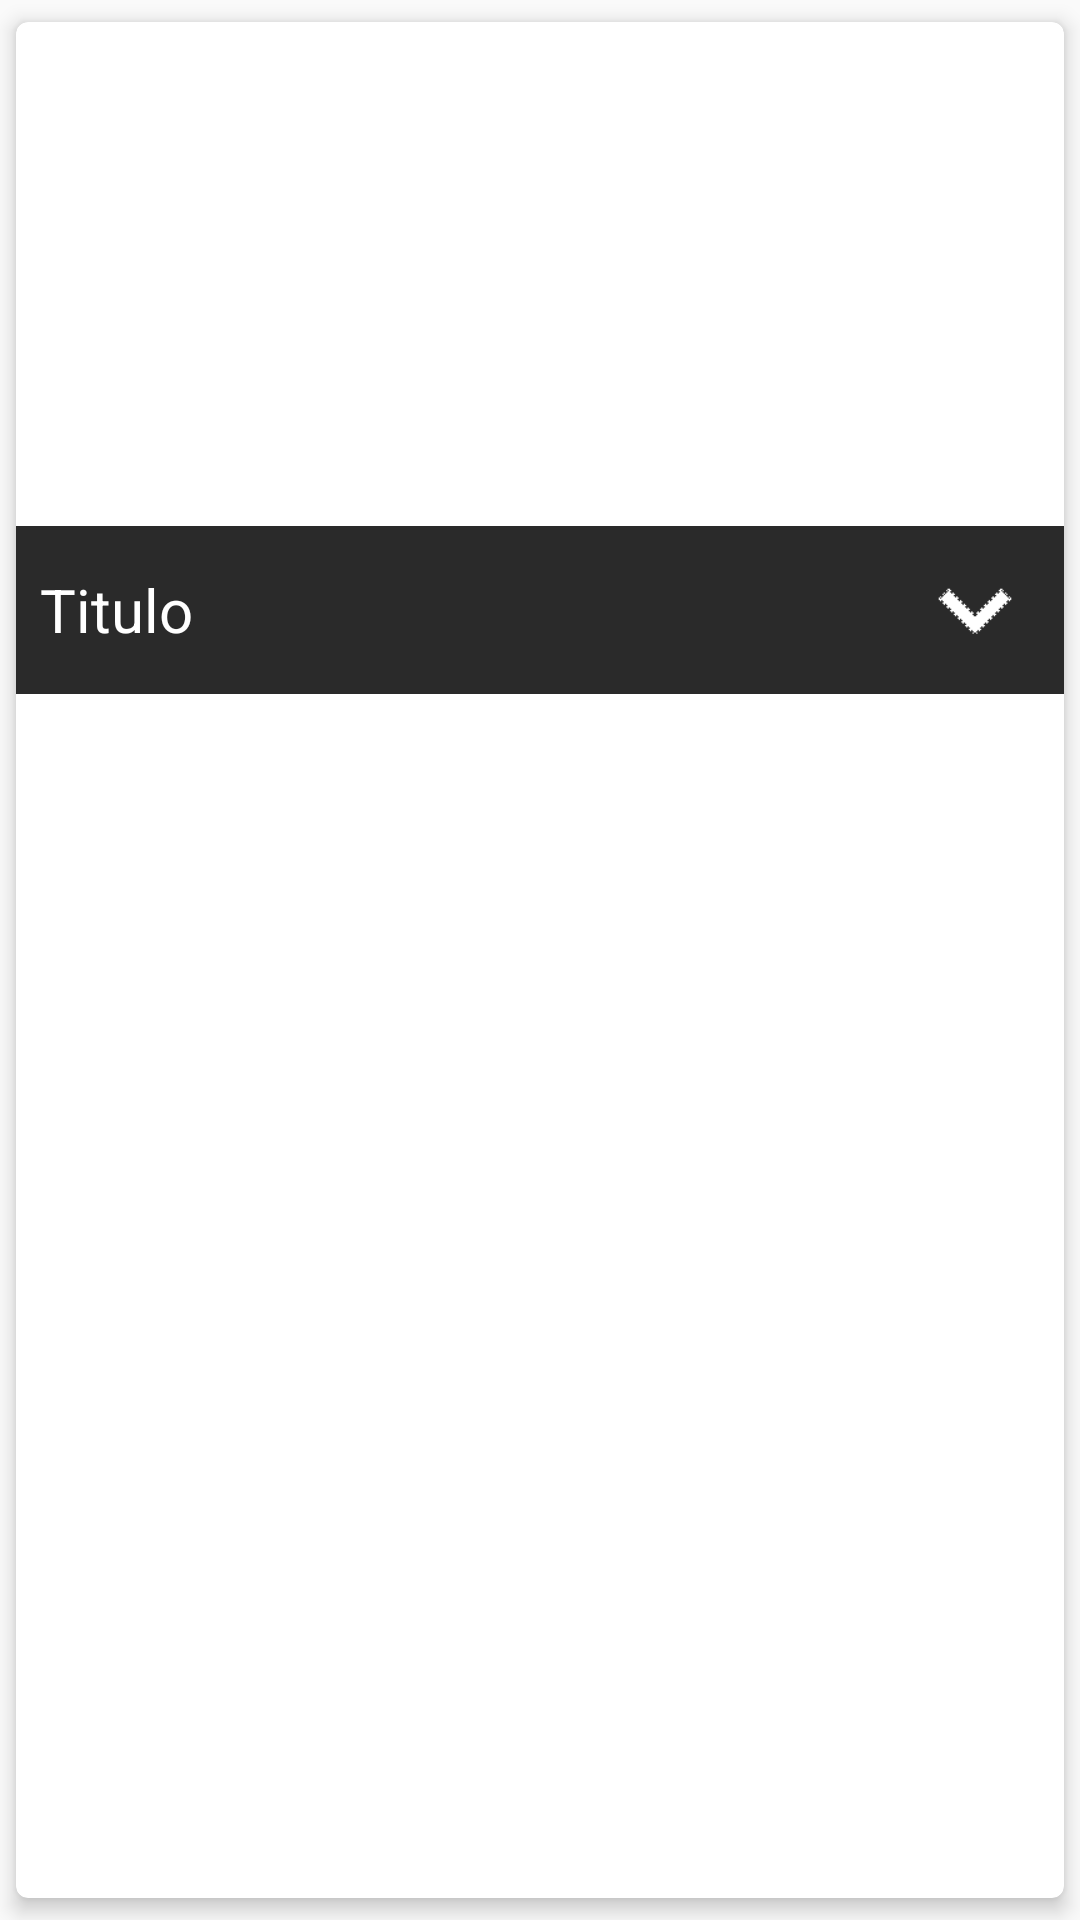

Icon bounding boxes for this 1080*1920 phone screenshot, format bbox=(x1, y1, x2, y2):
more: bbox=(938, 588, 1012, 634)
